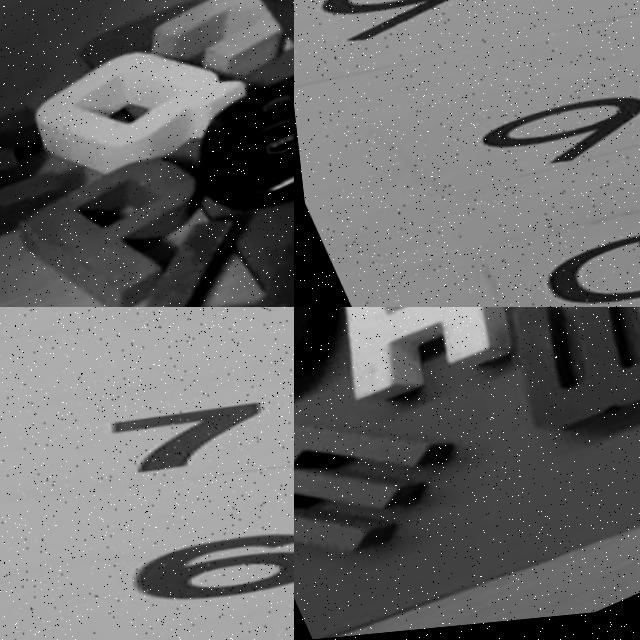0: (492, 163, 640, 307)
6: (79, 467, 294, 640)
7: (39, 339, 294, 545)
9: (433, 43, 640, 223), (294, 0, 547, 105)
B: (230, 0, 294, 106)
E: (0, 75, 117, 283)
H: (294, 307, 530, 432)
M: (294, 370, 473, 591)
P: (0, 145, 228, 307)
Q: (18, 15, 261, 203)
U: (75, 169, 294, 307)
W: (482, 307, 640, 470)
